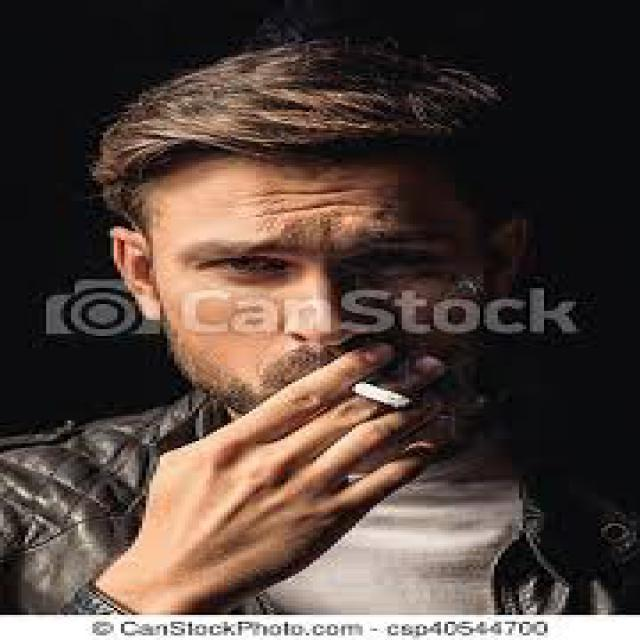smoking: (345, 374, 418, 413)
